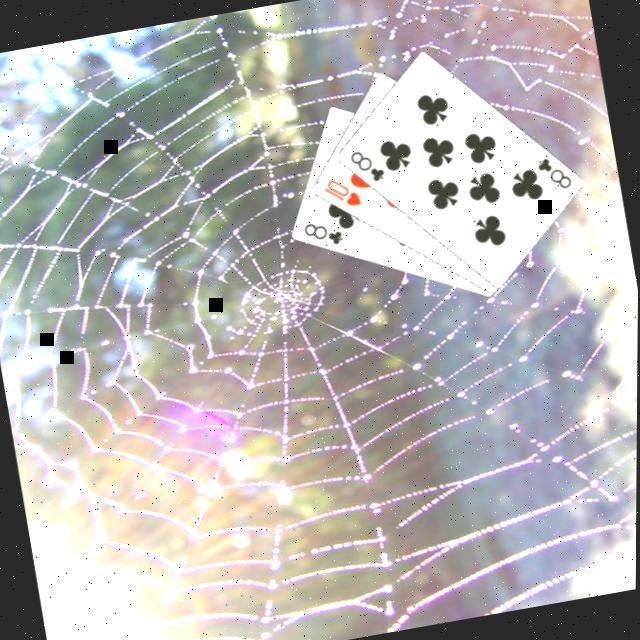10H: (318, 172, 365, 215)
8C: (344, 144, 388, 190), (530, 151, 574, 197), (297, 215, 346, 254)
